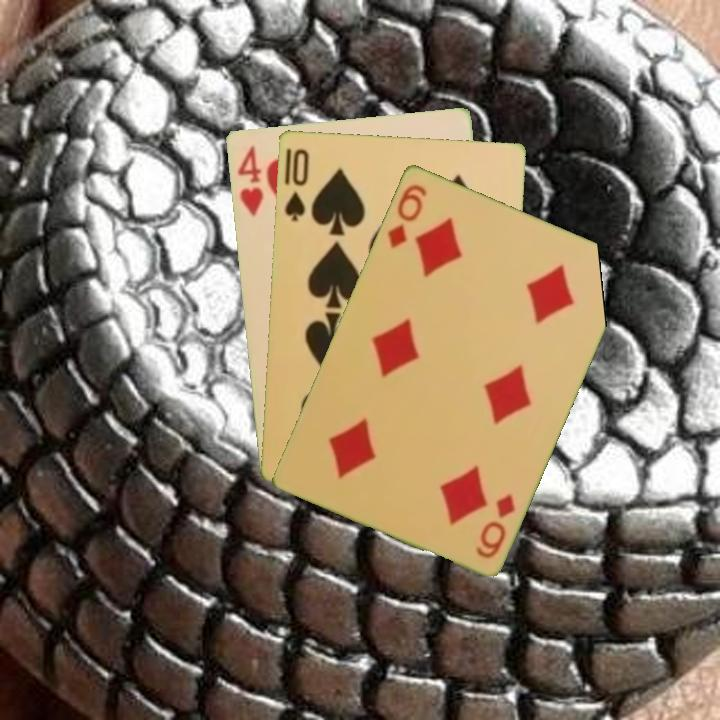10s: (281, 144, 311, 224)
4h: (233, 142, 266, 219)
6d: (472, 489, 518, 561), (383, 180, 429, 250)
